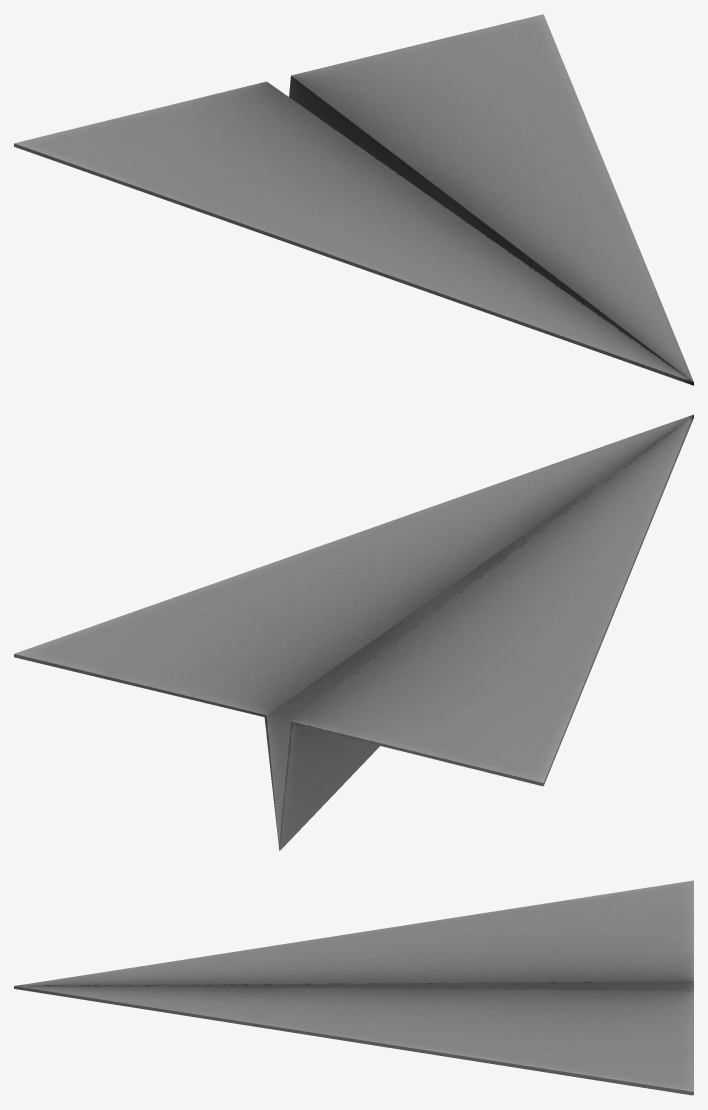
The model's file is Air_Plane_01.fbx.
The picture shows the model from 3 angles, top to bottom: view 1: azimuth 30°, elevation 25°; view 2: azimuth 150°, elevation 25°; view 3: azimuth 270°, elevation 25°; orthographic projection. The views are drawn at different scales.
Visible parts, largest first — view 1: Air_Plane_01; view 2: Air_Plane_01; view 3: Air_Plane_01.
Part boxes in pixels (x1=…): Air_Plane_01: x1=14, y1=14, x2=693, y2=385; Air_Plane_01: x1=14, y1=414, x2=693, y2=850; Air_Plane_01: x1=14, y1=880, x2=693, y2=1095.
Bounding box in the file's own units: 22.02 × 5.32 × 29.9.
